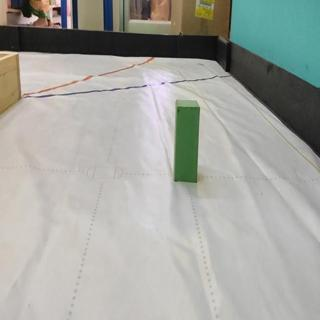greenbox: (174, 99, 200, 181)
